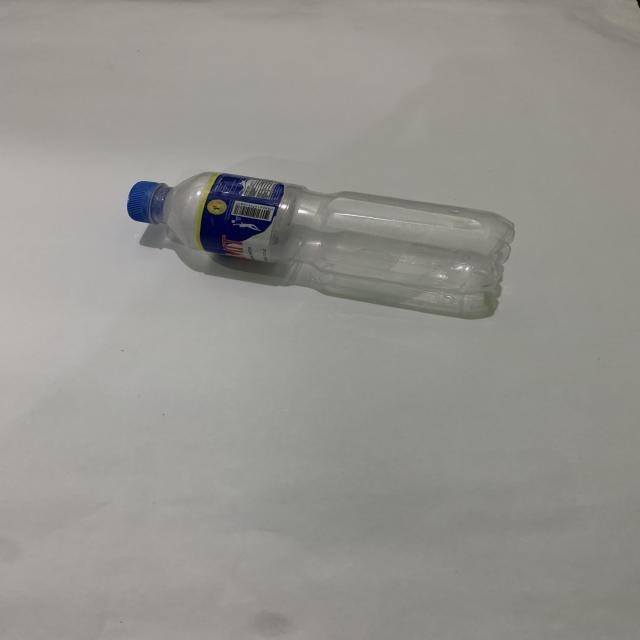bottle: (115, 157, 524, 322)
